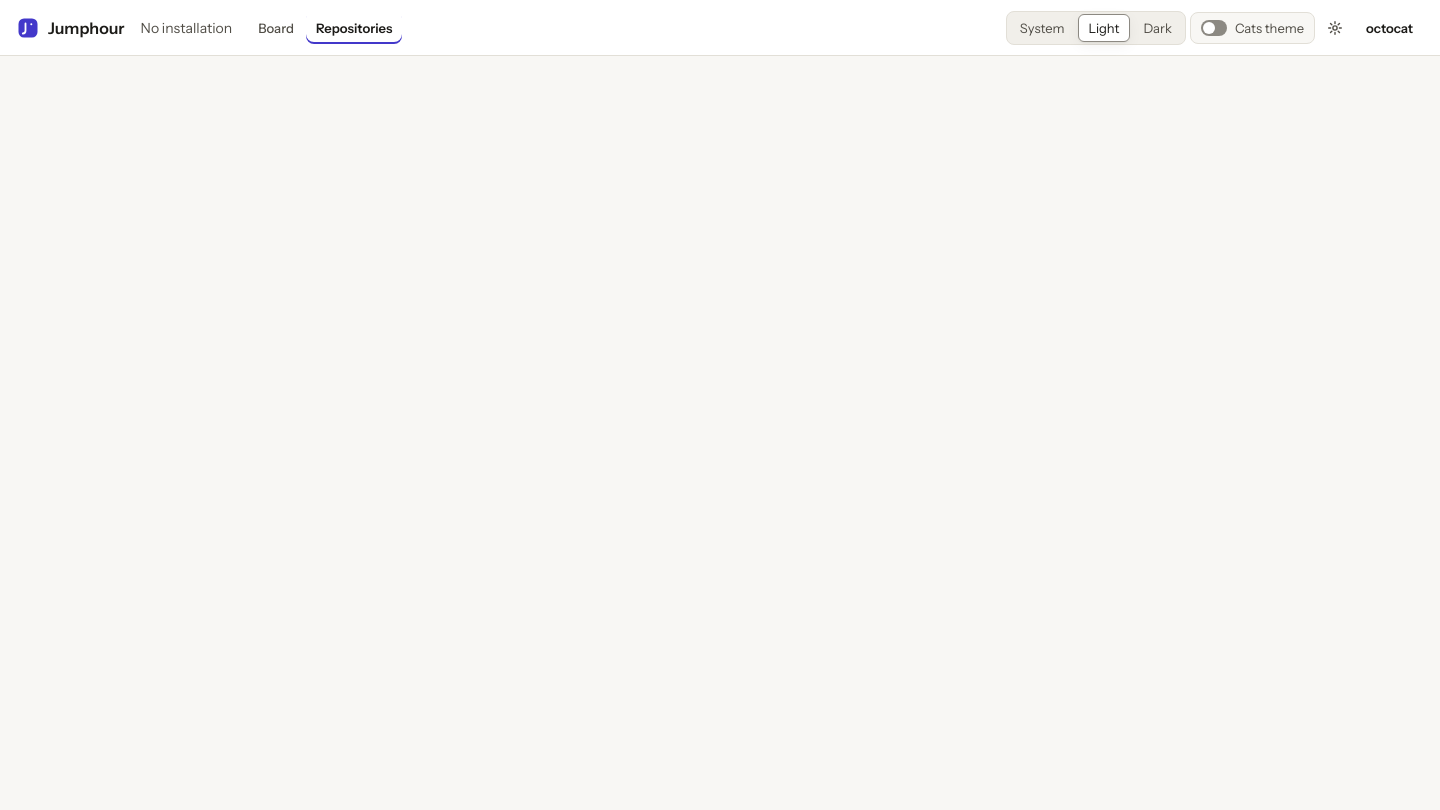
Test: TopAppBar navigation › carries the same navigation, current item marked, inside the account menu
This screenshot has width=1440, height=810.
Click the button "octocat" at (1390, 28), box [1355, 12, 1424, 44]
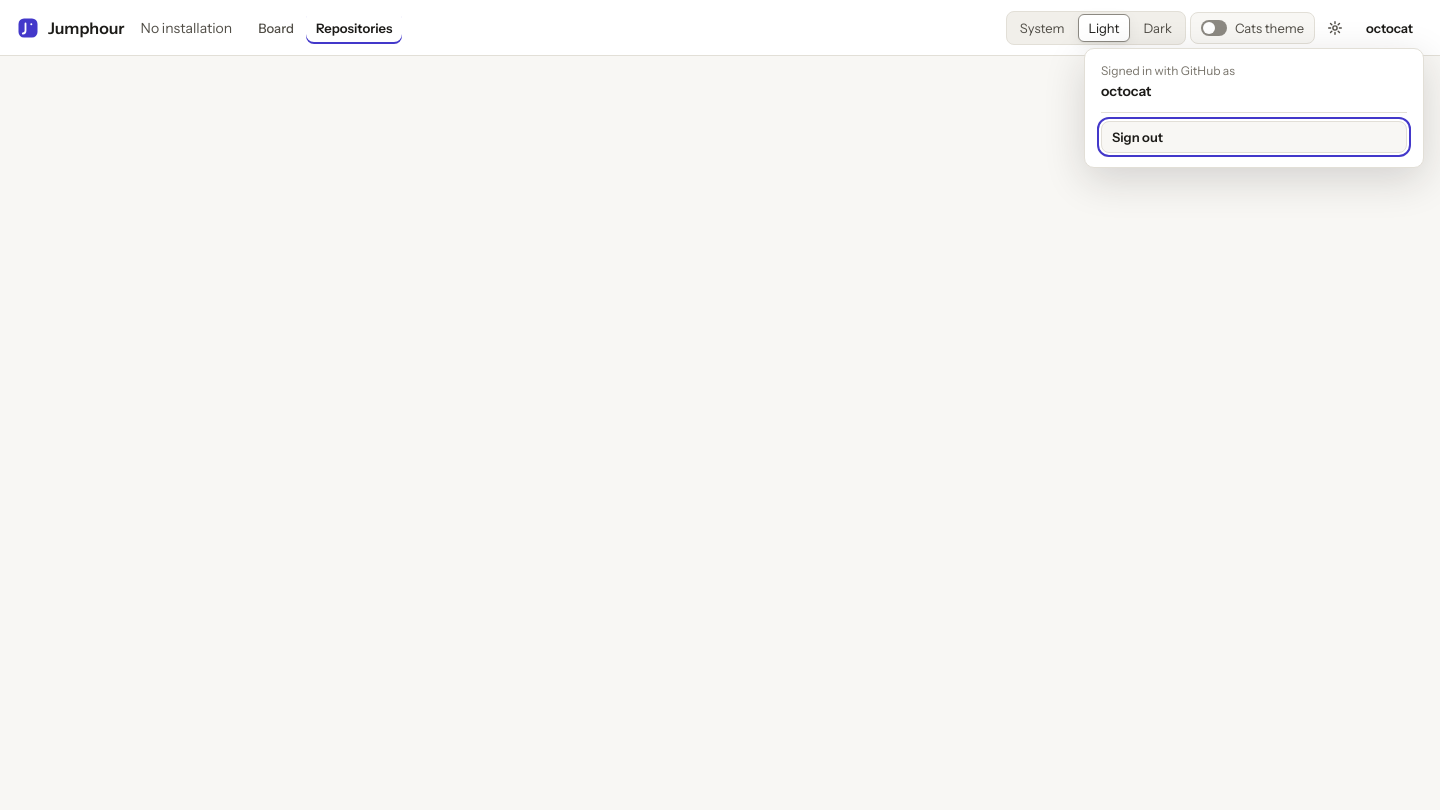
Now the button "Sign out" is shown, box [1101, 120, 1407, 152]
